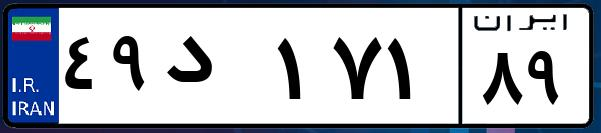1: (270, 28, 330, 110), (385, 28, 445, 110)
4: (57, 26, 110, 100)
7: (330, 28, 385, 110)
8: (475, 38, 525, 113)
9: (525, 38, 570, 115), (110, 28, 158, 98)
د: (158, 20, 270, 120)
